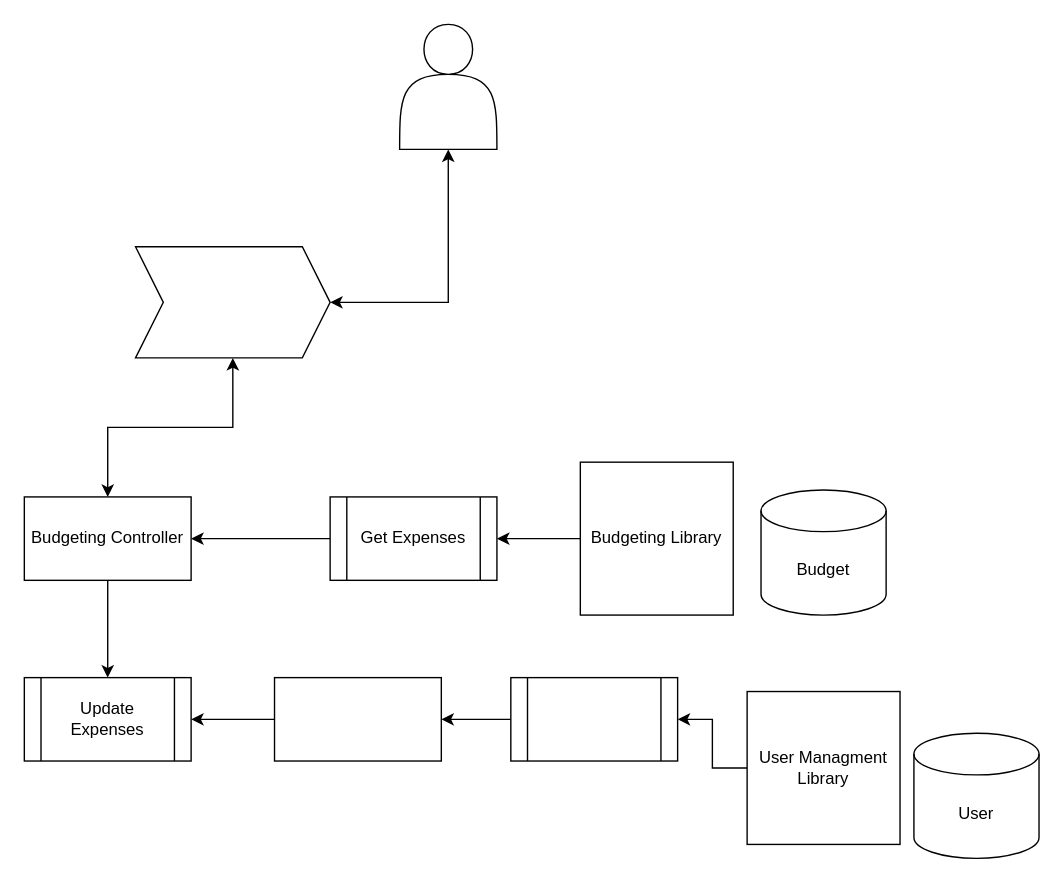
This 1063x883 diagram has some shape labels left out. The box of each missing label's shape, as (x1, y1, x2, y2) in pixels:
Edit An Expense In Budget Table: (134, 245, 330, 358)
Get Profile: (509, 676, 678, 761)
User Management Controller: (273, 676, 441, 761)
